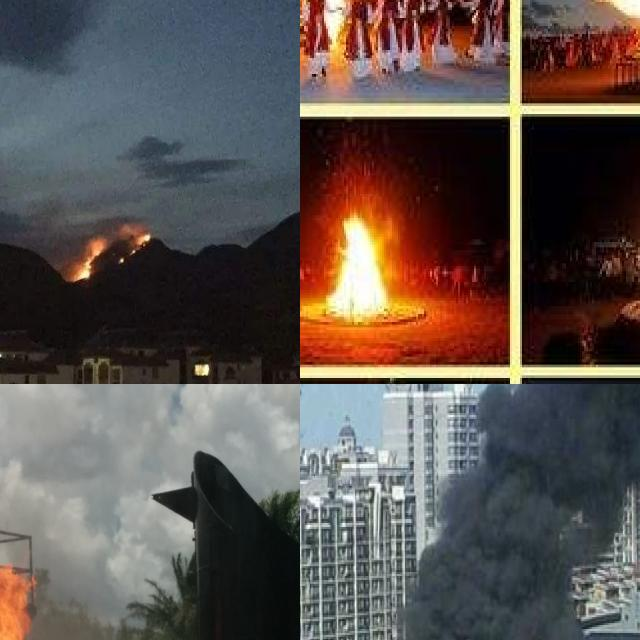fire: (318, 208, 396, 320), (60, 225, 150, 281)
smoke: (398, 384, 640, 640)
